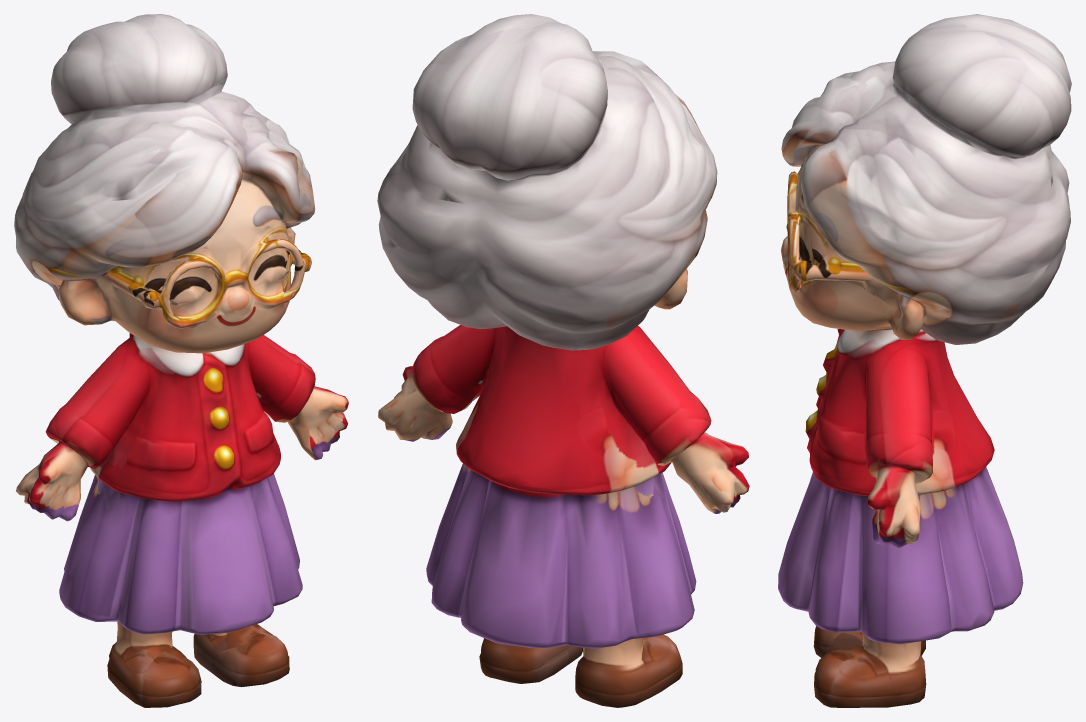
File: yolcu-hd-3-painted.glb
The picture shows the model from 3 angles, left to right: view 1: azimuth 30°, elevation 25°; view 2: azimuth 150°, elevation 25°; view 3: azimuth 270°, elevation 25°; orthographic projection. The views are drawn at different scales.
Visible parts, largest first — view 1: Body; view 2: Body; view 3: Body.
Part boxes in pixels (x1=…): Body: x1=14, y1=14, x2=348, y2=707; Body: x1=377, y1=14, x2=749, y2=707; Body: x1=778, y1=14, x2=1071, y2=707.
Bounding box in the file's own units: 1.08 × 1.99 × 0.8221.
Materials: 1 (1 with a texture image).
